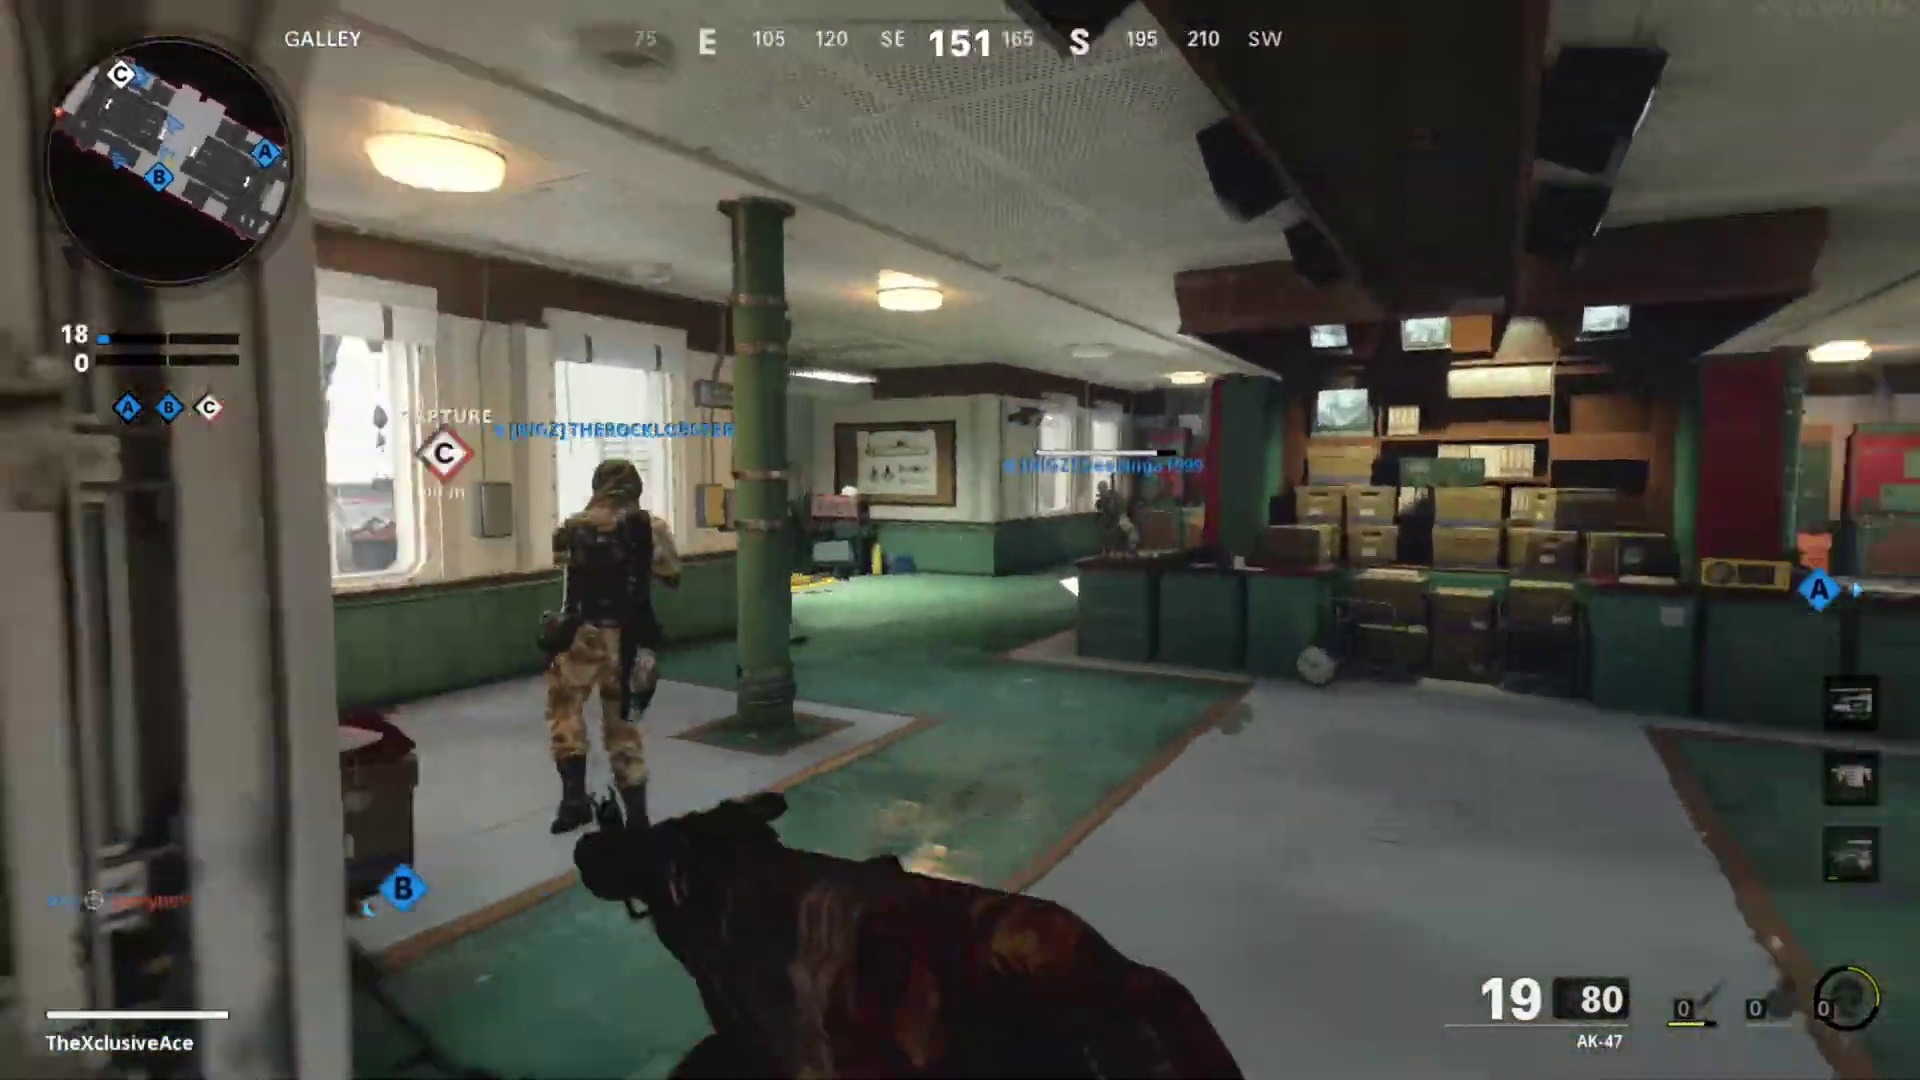head: (584, 460, 640, 516), (1091, 476, 1115, 501)
person: (543, 445, 672, 830), (1094, 473, 1142, 549)
